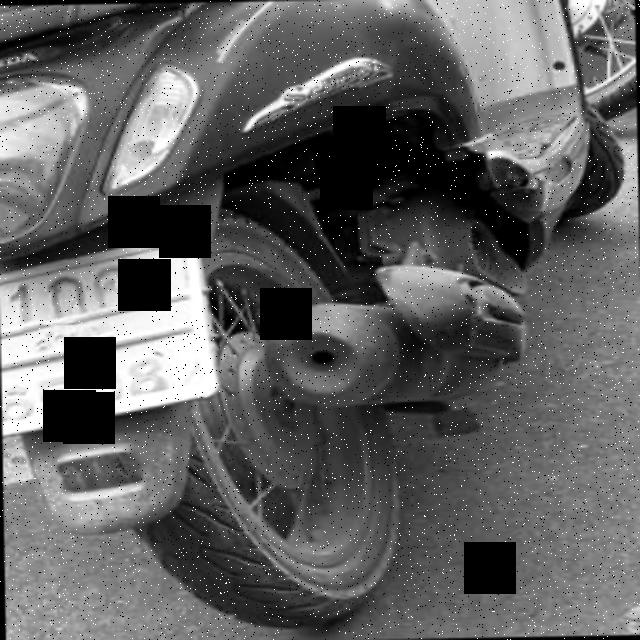letters: (41, 282, 88, 324), (5, 282, 38, 325), (38, 372, 72, 410), (88, 363, 122, 400), (92, 272, 131, 303), (133, 355, 161, 397), (1, 376, 26, 420)
license-plate: (0, 237, 210, 428)
province: (16, 321, 113, 352)
